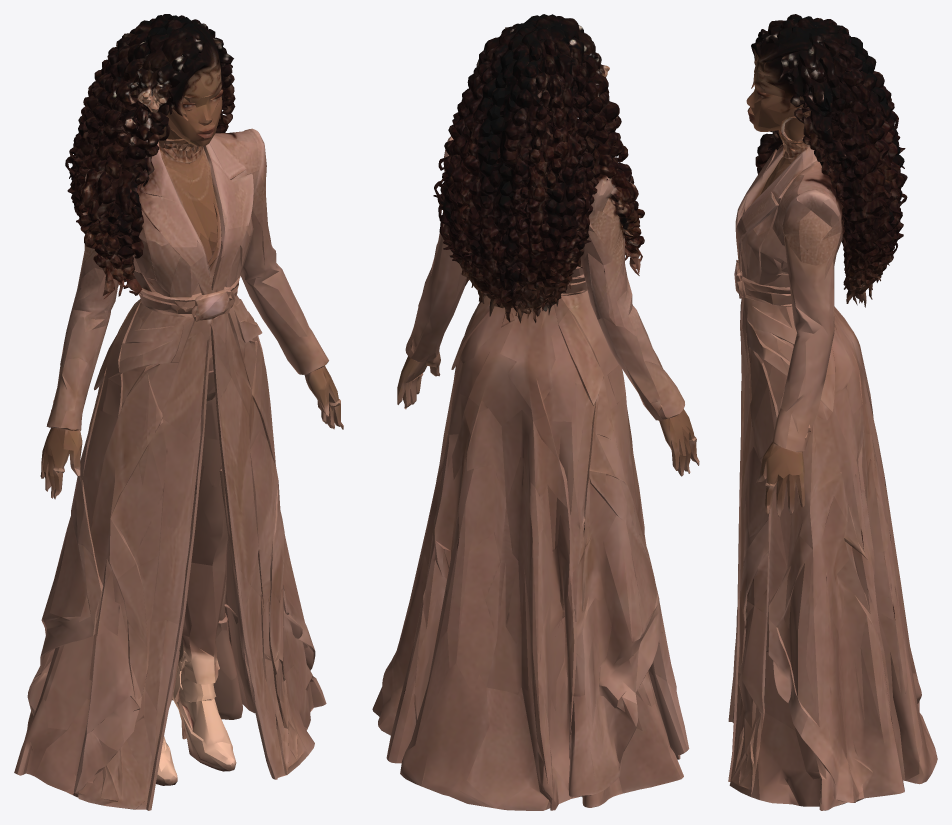
3 renders of one model, left to right at view 1: azimuth 30°, elevation 25°; view 2: azimuth 150°, elevation 25°; view 3: azimuth 270°, elevation 25°, orthographic. The views are drawn at different scales.
Parts seen in each view (by area): view 1: Mesh_0; view 2: Mesh_0; view 3: Mesh_0.
Boxes of the visible parts, x1,y1,x2,y2 form: Mesh_0: [14, 14, 343, 810]; Mesh_0: [372, 14, 699, 810]; Mesh_0: [728, 14, 937, 810].
Size of the model in its own units: 0.8302 by 1.9 by 0.4933.
1 material, 1 textured.
